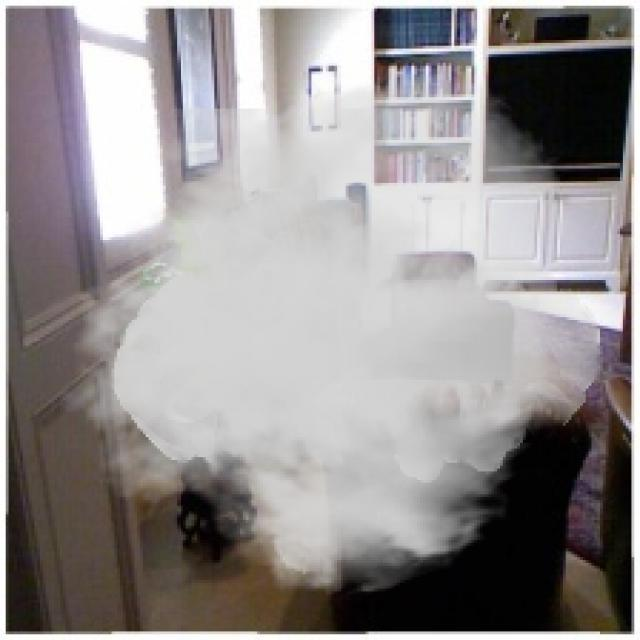smoke: (57, 60, 603, 600)
